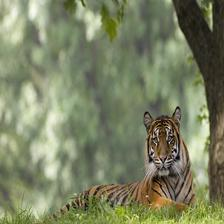tiger: (85, 111, 198, 210)
